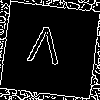V: (25, 24, 63, 76)
